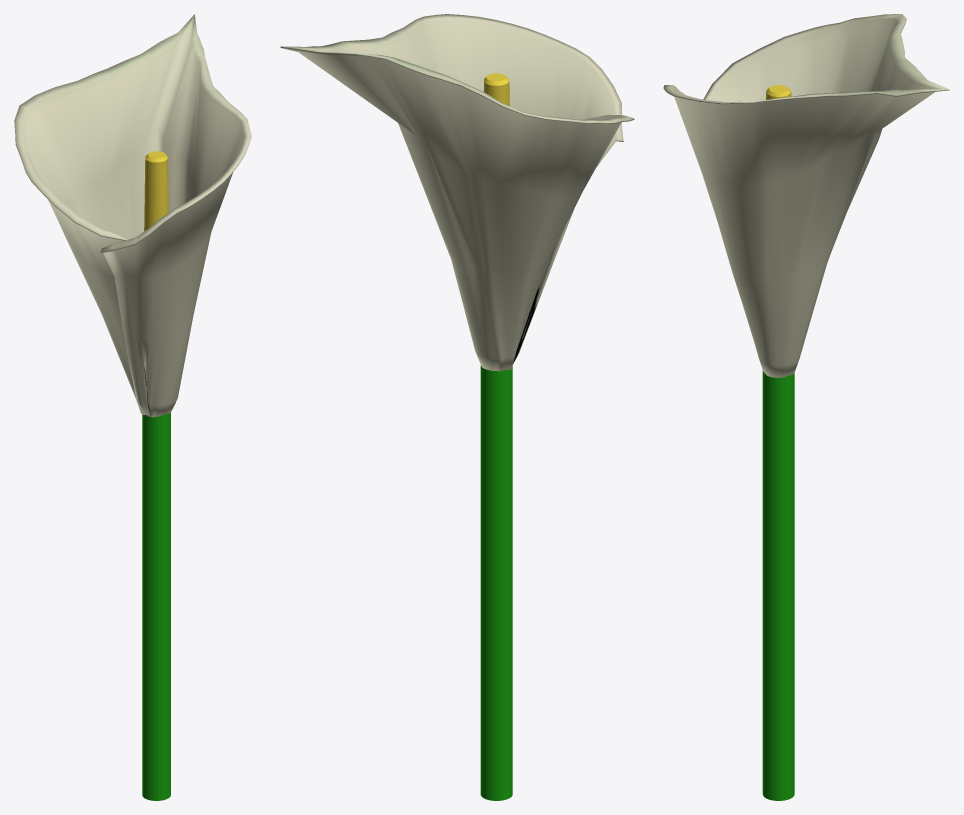
Rendered from calla-lily.glb.
3 renders of one model, left to right at view 1: azimuth 30°, elevation 25°; view 2: azimuth 150°, elevation 25°; view 3: azimuth 270°, elevation 25°, orthographic. The views are drawn at different scales.
Parts seen in each view (by area): view 1: Object_2, Object_5, Object_3; view 2: Object_2, Object_5, Object_3; view 3: Object_2, Object_5.
Part boxes in pixels (<box>): Object_2: <box>14,14,251,417</box>; Object_5: <box>142,412,170,800</box>; Object_3: <box>144,151,168,231</box>; Object_2: <box>280,14,634,371</box>; Object_5: <box>480,365,512,800</box>; Object_3: <box>483,73,509,105</box>; Object_2: <box>663,14,949,377</box>; Object_5: <box>762,370,794,800</box>.
Size of the model in its own units: 0.3473 by 1 by 0.3379.
3 materials, 1 textured.
